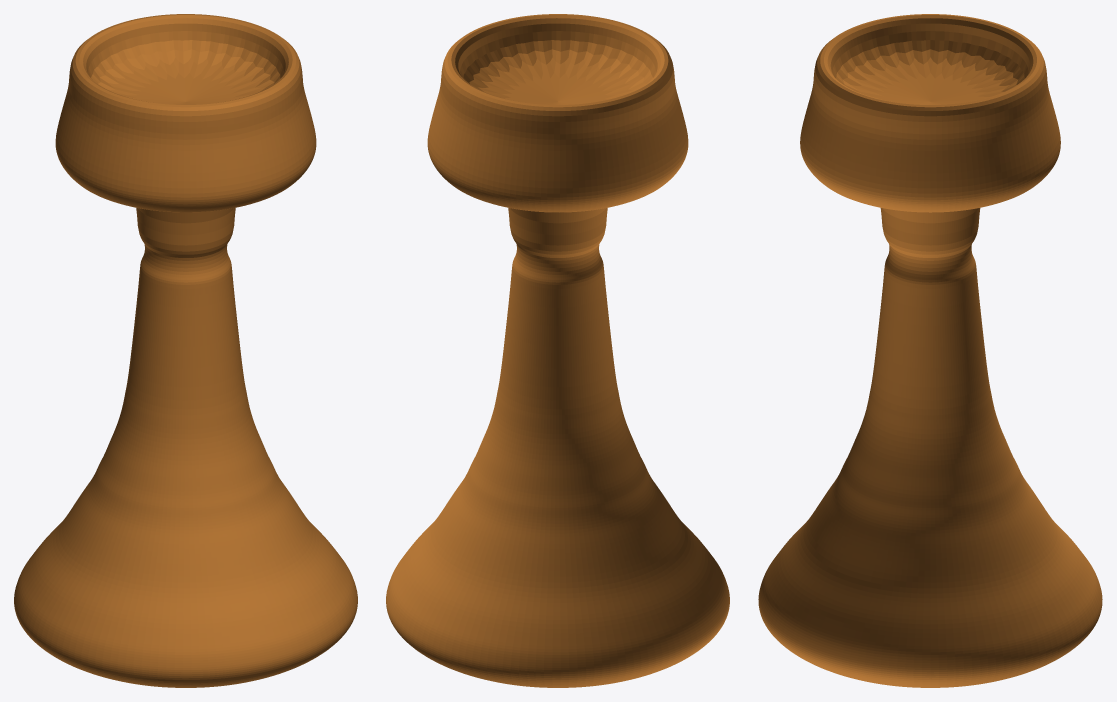
The model's file is Rook.obj.
3 renders of one model, left to right at view 1: azimuth 30°, elevation 25°; view 2: azimuth 150°, elevation 25°; view 3: azimuth 270°, elevation 25°, orthographic.
Parts seen in each view (by area): view 1: Rook; view 2: Rook; view 3: Rook.
Boxes of the visible parts, x1=… form: Rook: x1=14, y1=14, x2=357, y2=687; Rook: x1=386, y1=14, x2=729, y2=687; Rook: x1=758, y1=14, x2=1102, y2=687.
Bounding box in the file's own units: 1.78 × 3.37 × 1.78.
